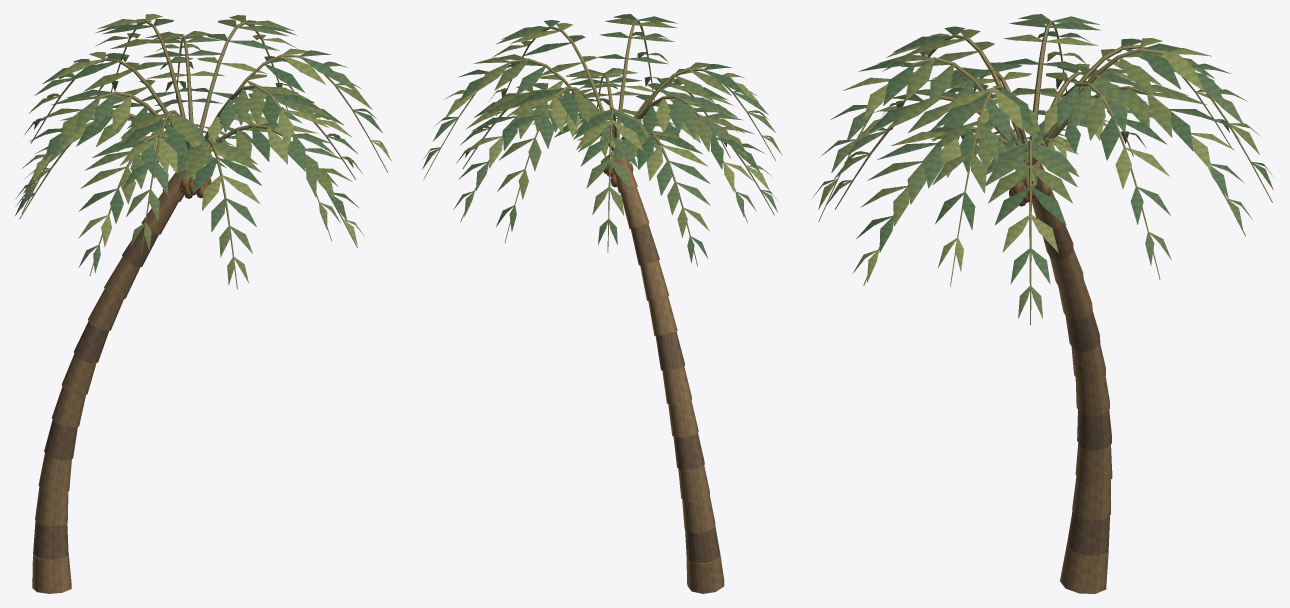
File: wind-palm-near.glb
The picture shows the model from 3 angles, left to right: view 1: azimuth 30°, elevation 25°; view 2: azimuth 150°, elevation 25°; view 3: azimuth 270°, elevation 25°; orthographic projection. The views are drawn at different scales.
Visible parts, largest first — view 1: Crown_Foliage, Trunk_Wood; view 2: Crown_Foliage, Trunk_Wood; view 3: Crown_Foliage, Trunk_Wood.
Part boxes in pixels (x1,y1,x2,y2): Crown_Foliage: (15, 14, 391, 285); Trunk_Wood: (19, 20, 388, 593); Crown_Foliage: (422, 14, 782, 263); Trunk_Wood: (423, 19, 775, 593); Crown_Foliage: (812, 14, 1273, 318); Trunk_Wood: (818, 20, 1272, 593).
Bounding box in the file's own units: 6.63 × 10.02 × 6.92.
Materials: 2 (2 with a texture image).
